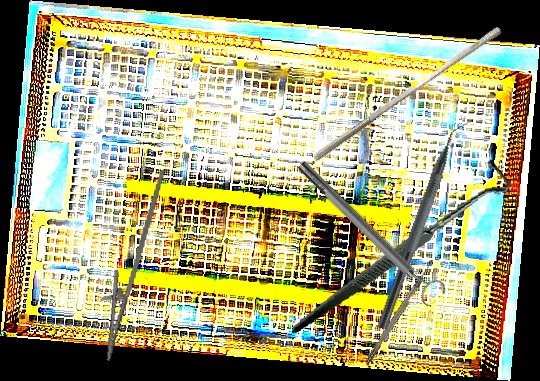Chopper: (376, 112, 476, 336)
Fixation Ring: (291, 152, 449, 311)
Hook Surgical: (272, 157, 526, 334), (363, 258, 437, 365)
Needle Holder: (90, 164, 166, 365)
Pusher: (310, 18, 505, 171)
